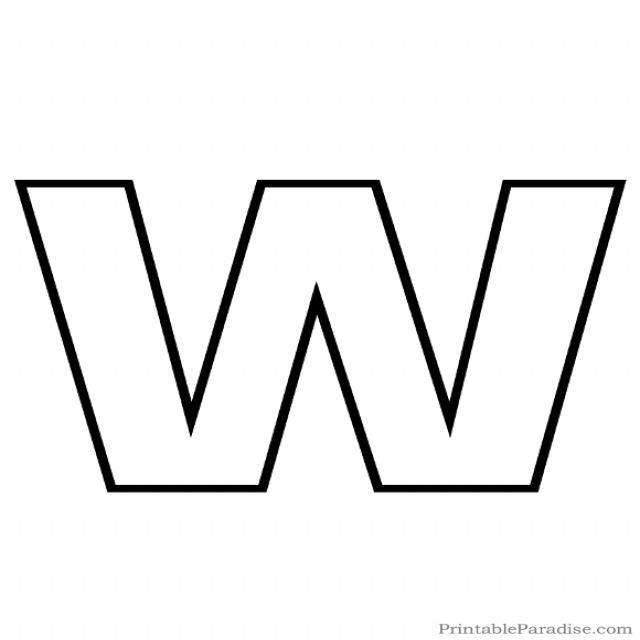W: (9, 130, 635, 549)
